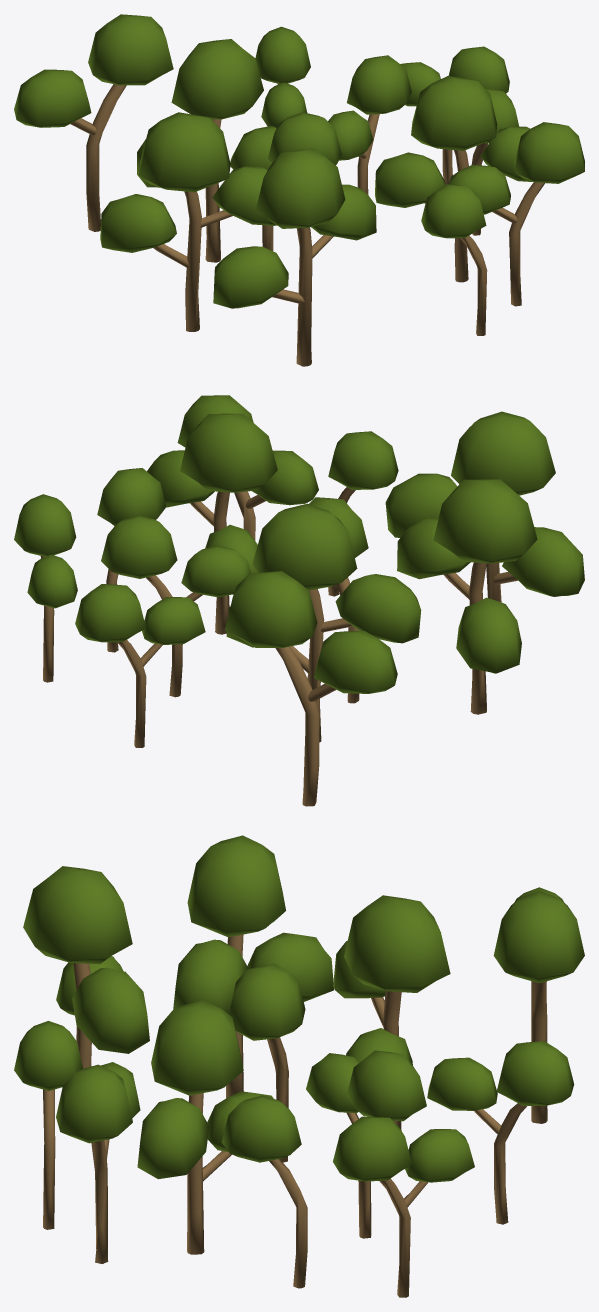
File: resource_tree_group.glb
The picture shows the model from 3 angles, top to bottom: view 1: azimuth 30°, elevation 25°; view 2: azimuth 150°, elevation 25°; view 3: azimuth 270°, elevation 25°; orthographic projection. The views are drawn at different scales.
Parts seen in each view (by area): view 1: Resource_Tree_Group; view 2: Resource_Tree_Group; view 3: Resource_Tree_Group.
Part boxes in pixels (left/top/right/bottom): Resource_Tree_Group: left=14, top=14, right=584, bottom=366; Resource_Tree_Group: left=14, top=395, right=584, bottom=806; Resource_Tree_Group: left=14, top=835, right=584, bottom=1297.
Bounding box in the file's own units: 1.97 × 0.9264 × 1.86.
